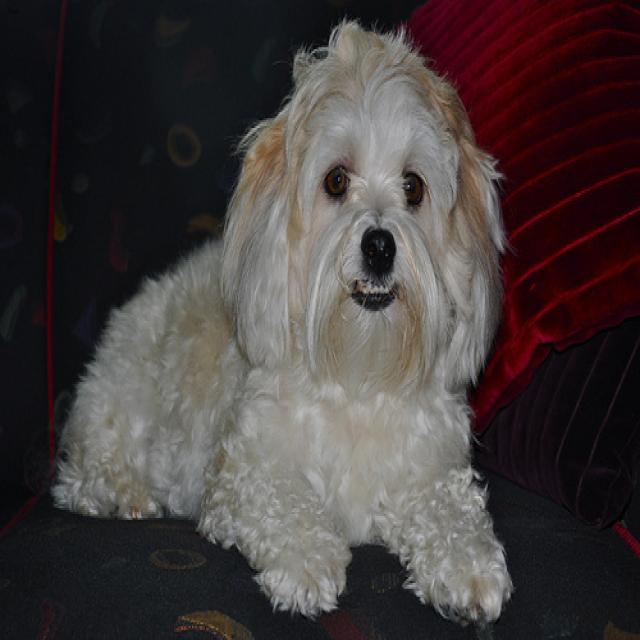dog-havanese: (44, 2, 518, 636)
